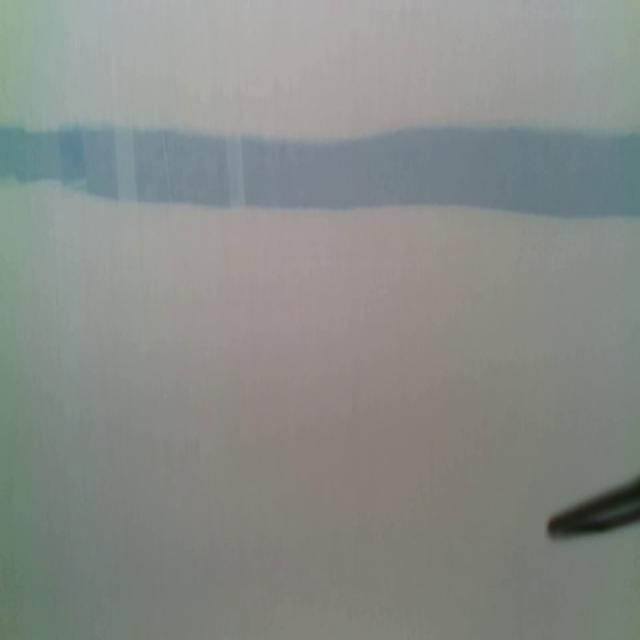color bleeding: (1, 119, 640, 226)
